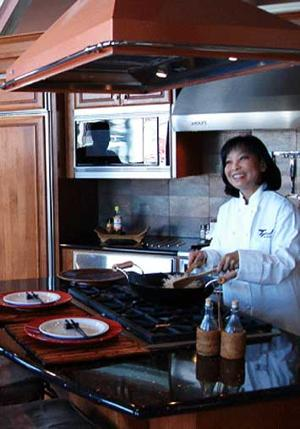person: (187, 136, 300, 338)
